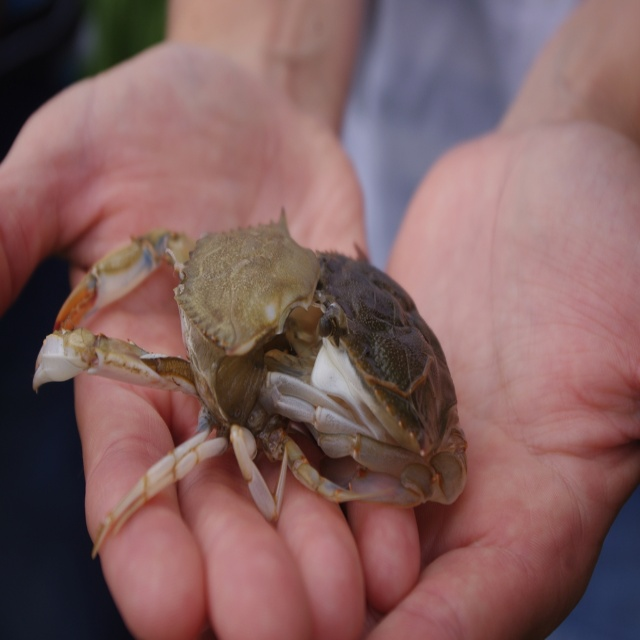Crab: (33, 204, 470, 562)
